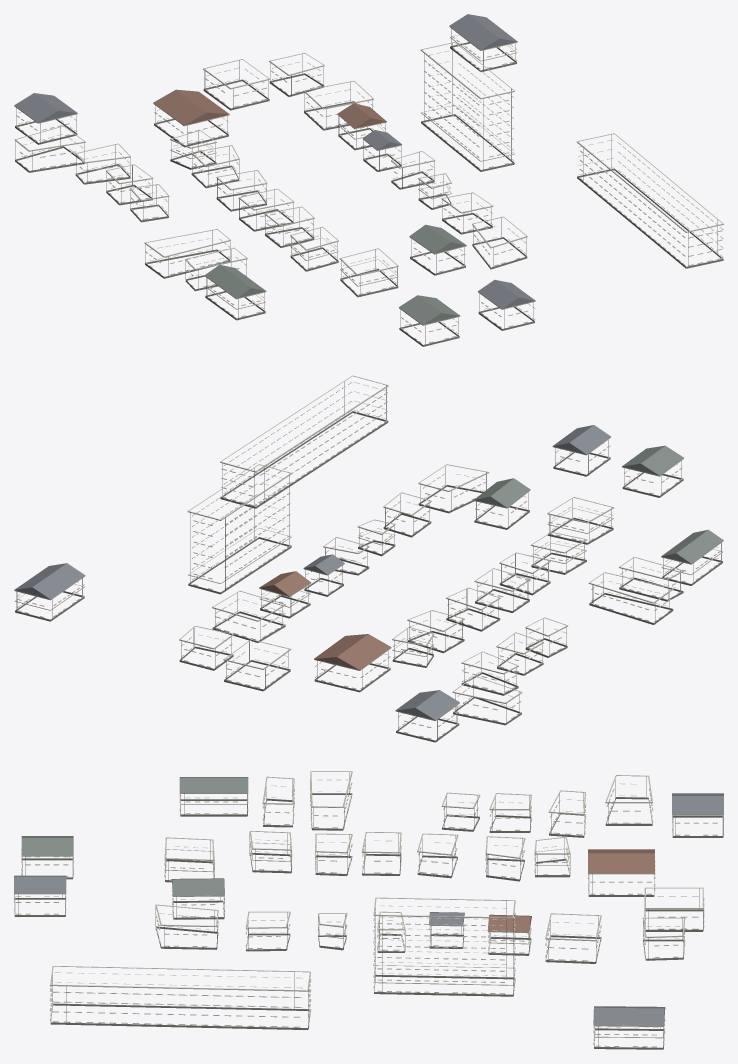
The model's file is district_1_0.glb.
3 renders of one model, top to bottom at view 1: azimuth 30°, elevation 25°; view 2: azimuth 150°, elevation 25°; view 3: azimuth 270°, elevation 25°, orthographic. The views are drawn at different scales.
Parts seen in each view (by area): view 1: MasonryTrim, RoofMetal, MetalDetails; view 2: MasonryTrim, RoofMetal, MetalDetails; view 3: MasonryTrim, RoofMetal, MetalDetails.
Boxes of the visible parts, <box> form: MasonryTrim: <box>14,26,723,346</box>; RoofMetal: <box>14,14,535,324</box>; MetalDetails: <box>15,28,717,346</box>; MasonryTrim: <box>14,375,723,742</box>; RoofMetal: <box>14,425,723,720</box>; MetalDetails: <box>16,382,721,741</box>; MasonryTrim: <box>14,771,723,1049</box>; RoofMetal: <box>14,777,723,1026</box>; MetalDetails: <box>14,772,723,1048</box>.
Bounding box in the file's own units: 173 × 25 × 204.
